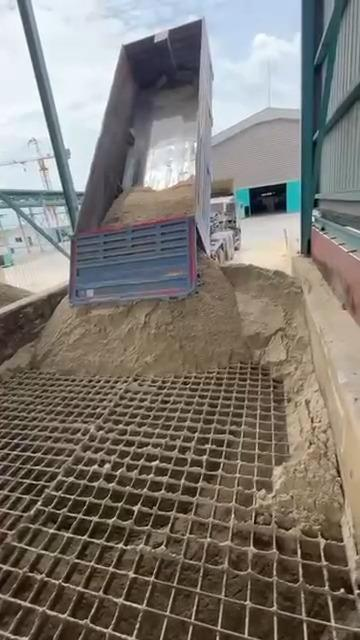sand: (35, 258, 342, 534), (103, 181, 194, 225), (0, 342, 34, 378), (0, 283, 29, 307)
